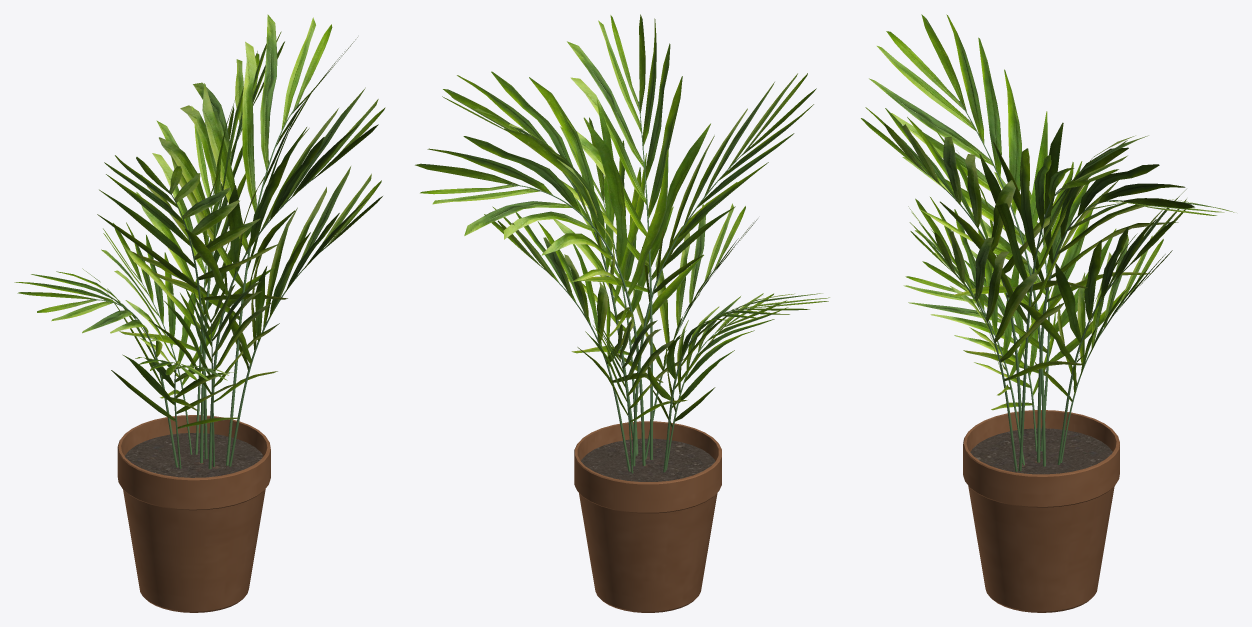
File: plant3.glb
3 renders of one model, left to right at view 1: azimuth 30°, elevation 25°; view 2: azimuth 150°, elevation 25°; view 3: azimuth 270°, elevation 25°, orthographic. The views are drawn at different scales.
Parts seen in each view (by area): view 1: Palm.02; view 2: Palm.02; view 3: Palm.02.
Boxes of the visible parts, x1,y1,x2,y2 form: Palm.02: (14, 14, 385, 612); Palm.02: (415, 14, 829, 612); Palm.02: (861, 14, 1234, 612).
Bounding box in the file's own units: 0.4734 × 0.642 × 0.4182.
Materials: 4 (3 with a texture image).
